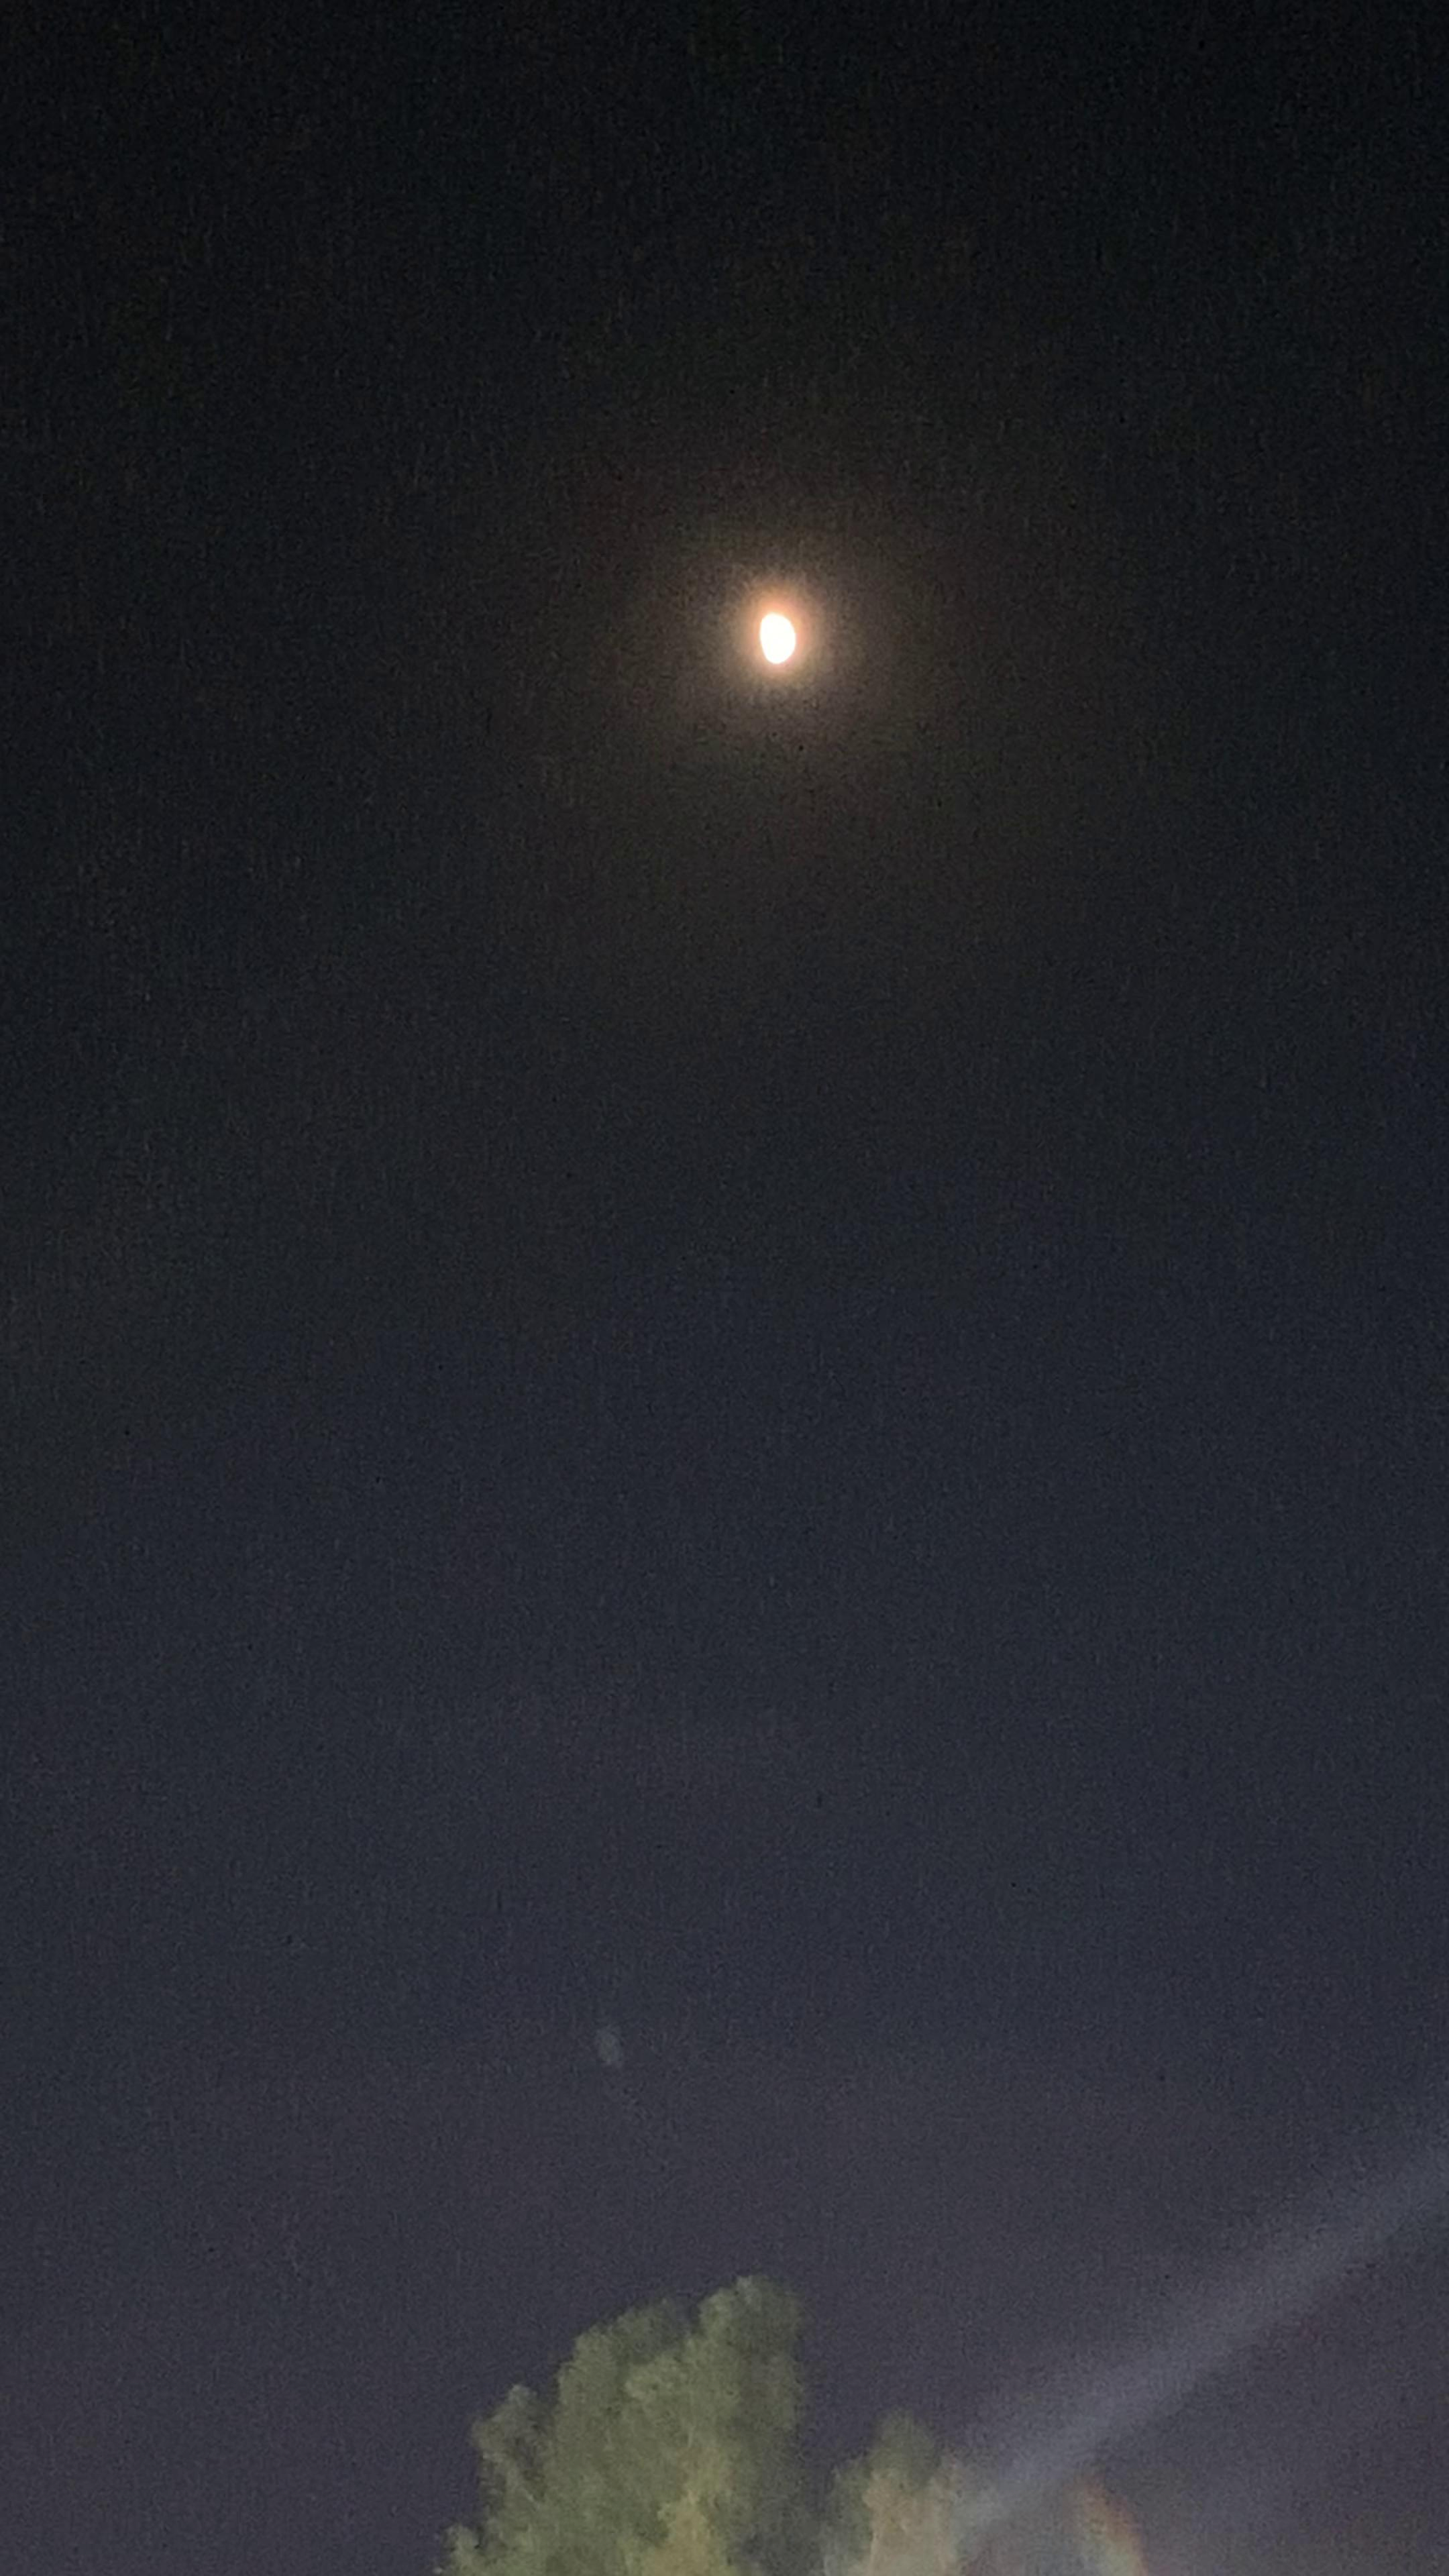moon: (697, 619, 858, 764)
